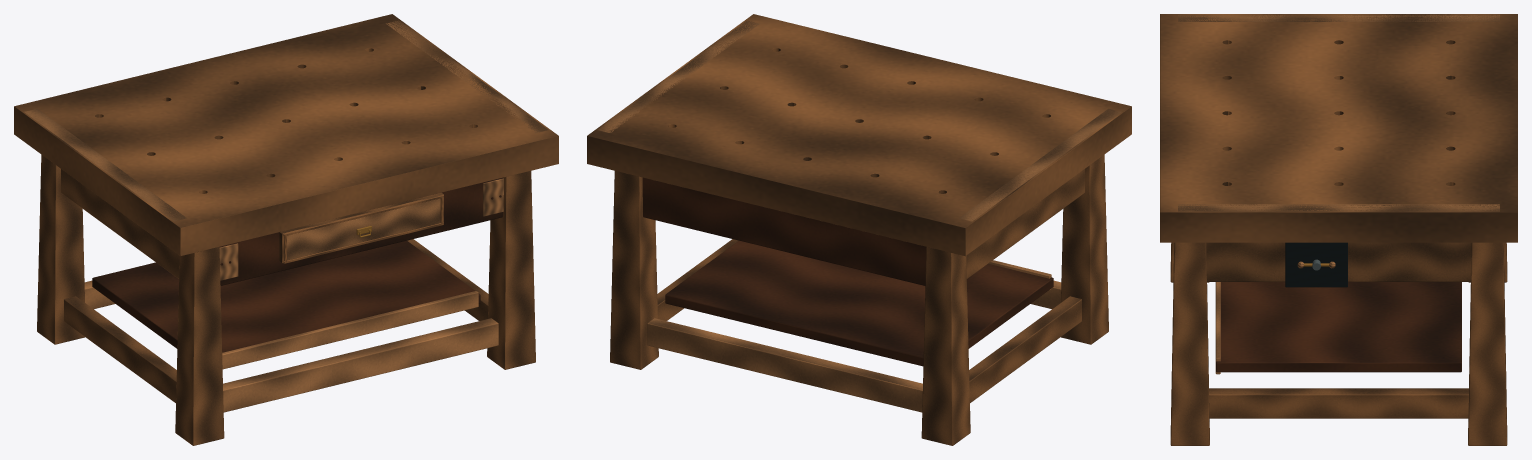
The model's file is asset.glb.
3 renders of one model, left to right at view 1: azimuth 30°, elevation 25°; view 2: azimuth 150°, elevation 25°; view 3: azimuth 270°, elevation 25°, orthographic. The views are drawn at different scales.
Parts seen in each view (by area): view 1: MaterialBatch_Room_furniture_quarter-sawn_oak, MaterialBatch_Room_furniture_smoked_walnut, MaterialBatch_Room_furniture_light_oak; view 2: MaterialBatch_Room_furniture_quarter-sawn_oak, MaterialBatch_Room_furniture_smoked_walnut, MaterialBatch_Room_furniture_light_oak; view 3: MaterialBatch_Room_furniture_quarter-sawn_oak, MaterialBatch_Room_furniture_smoked_walnut, MaterialBatch_Room_furniture_light_oak, Assembly table end vise plate.
Part boxes in pixels (bbox=[...]): MaterialBatch_Room_furniture_quarter-sawn_oak: bbox=[14, 14, 558, 445]; MaterialBatch_Room_furniture_smoked_walnut: bbox=[92, 177, 502, 352]; MaterialBatch_Room_furniture_light_oak: bbox=[24, 20, 548, 412]; MaterialBatch_Room_furniture_quarter-sawn_oak: bbox=[587, 14, 1131, 445]; MaterialBatch_Room_furniture_smoked_walnut: bbox=[642, 177, 1053, 366]; MaterialBatch_Room_furniture_light_oak: bbox=[597, 20, 1121, 412]; MaterialBatch_Room_furniture_quarter-sawn_oak: bbox=[1160, 14, 1517, 445]; MaterialBatch_Room_furniture_smoked_walnut: bbox=[1216, 282, 1461, 372]; MaterialBatch_Room_furniture_light_oak: bbox=[1178, 14, 1499, 374]; Assembly table end vise plate: bbox=[1285, 242, 1347, 287].
Size of the model in its own units: 42 by 24 by 32.
6 materials, 6 textured.
